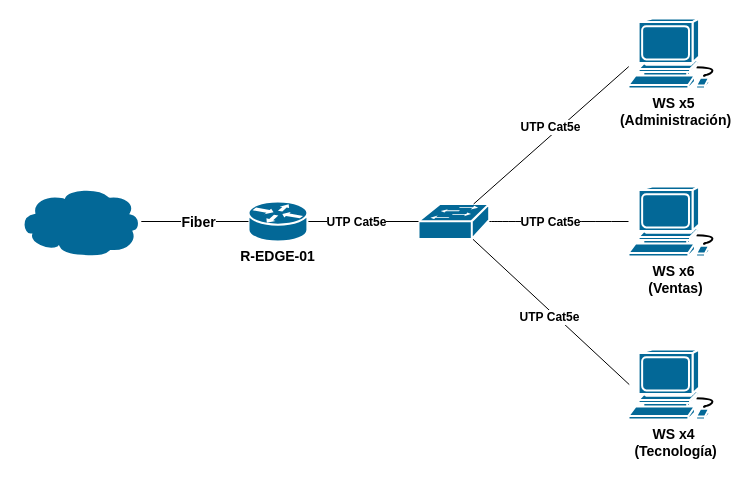
The diagram is 748 pixels wide and 477 high, and some of its shapes have lost their labels. Here are the shapes that lost their labels. From the top down, the centre of each, then its label:
(x=79, y=221): ISP-UPLINK
(x=453, y=221): SW-ACC-01
